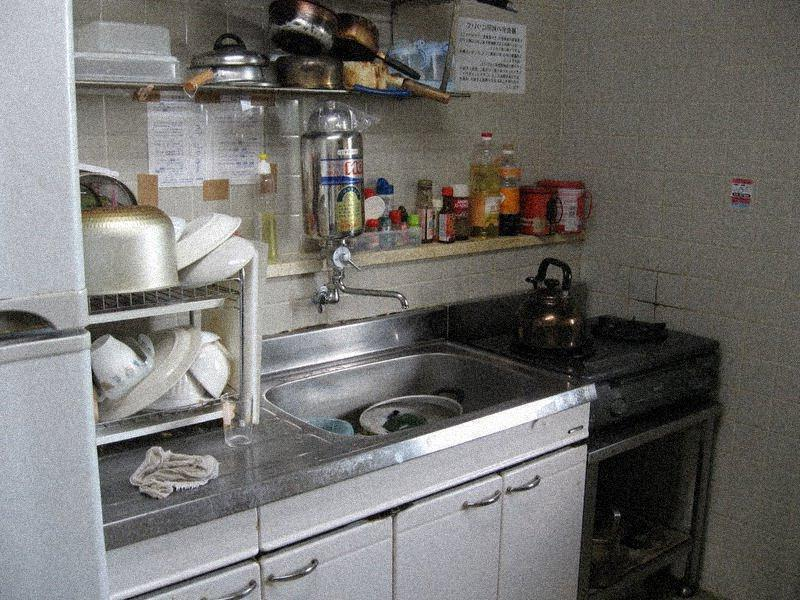Electrodomestico: (580, 328, 716, 593)
Lavaplatos: (258, 266, 554, 460)
